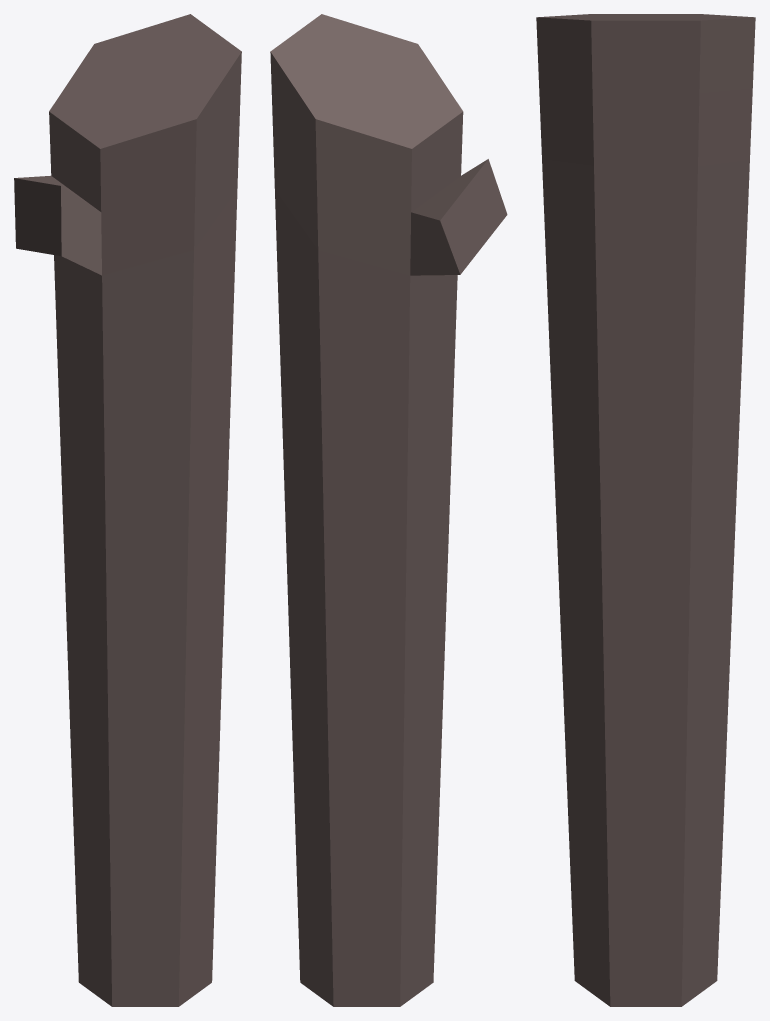
The model's file is fence8.fbx.
The picture shows the model from 3 angles, left to right: view 1: azimuth 30°, elevation 25°; view 2: azimuth 150°, elevation 25°; view 3: azimuth 270°, elevation 25°; orthographic projection. The views are drawn at different scales.
Parts seen in each view (by area): view 1: Props_fences.007; view 2: Props_fences.007; view 3: Props_fences.007.
Part boxes in pixels (x1,y1,x2,y2): Props_fences.007: (14, 14, 241, 1006); Props_fences.007: (270, 14, 507, 1006); Props_fences.007: (536, 14, 755, 1006).
Size of the model in its own units: 28.14 by 137 by 27.31.
